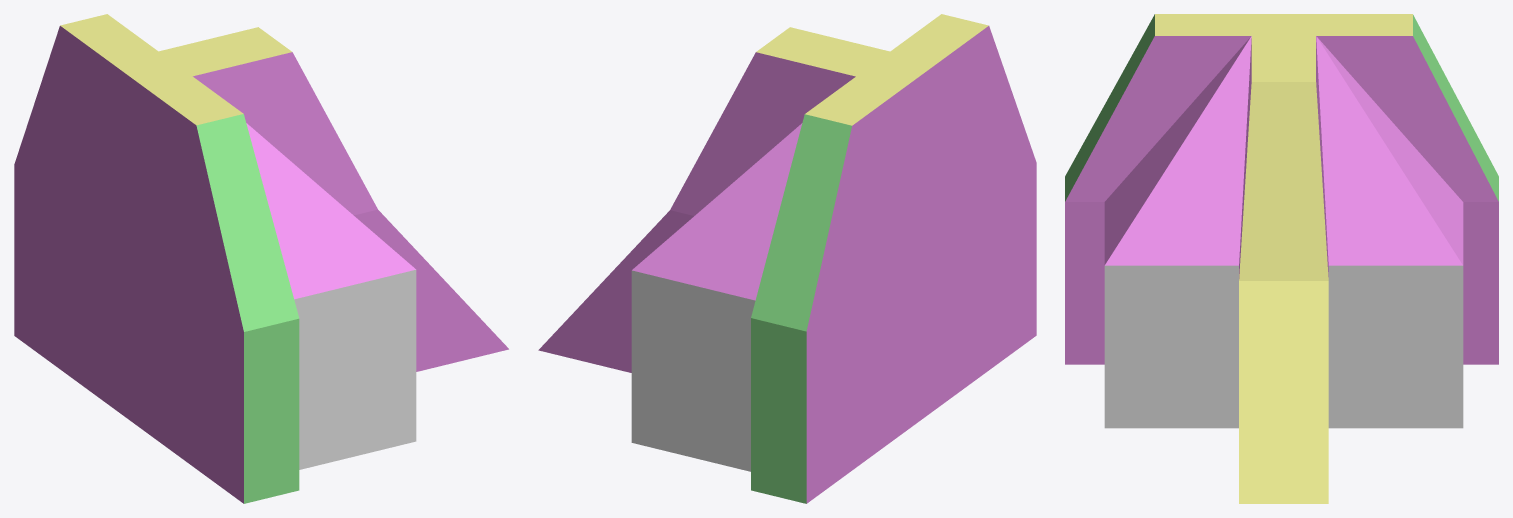
Rendered from sylentemple_deco04.gltf.
3 renders of one model, left to right at view 1: azimuth 30°, elevation 25°; view 2: azimuth 150°, elevation 25°; view 3: azimuth 270°, elevation 25°, orthographic. The views are drawn at different scales.
Visible parts, largest first — view 1: sylentemple_deco04; view 2: sylentemple_deco04; view 3: sylentemple_deco04.
Part boxes in pixels (box(x1,y1,x2,y2)): sylentemple_deco04: box(14, 14, 508, 503); sylentemple_deco04: box(538, 14, 1036, 503); sylentemple_deco04: box(1065, 14, 1498, 503).
Bounding box in the file's own units: 0.9754 × 0.896 × 1.08.
